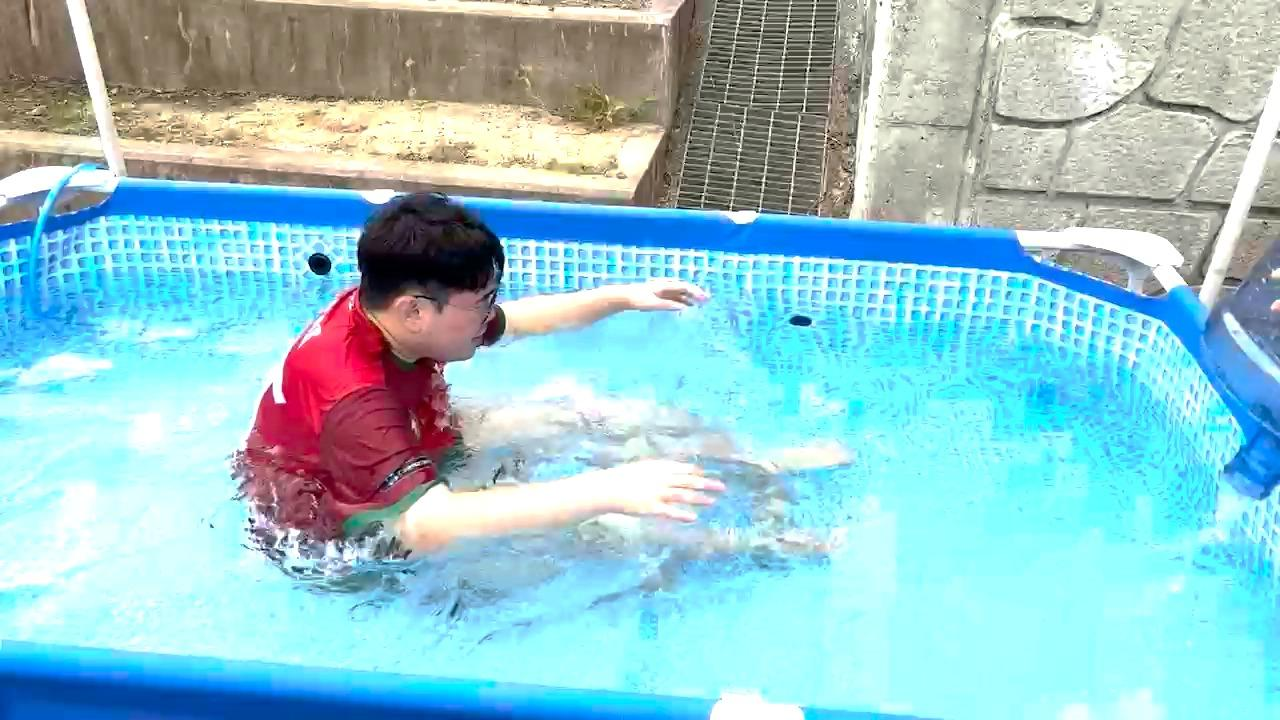Swimming: (227, 165, 817, 630)
